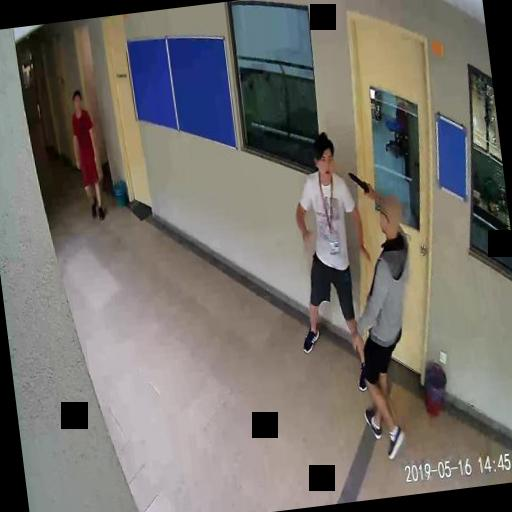Handgun: (346, 168, 370, 198)
